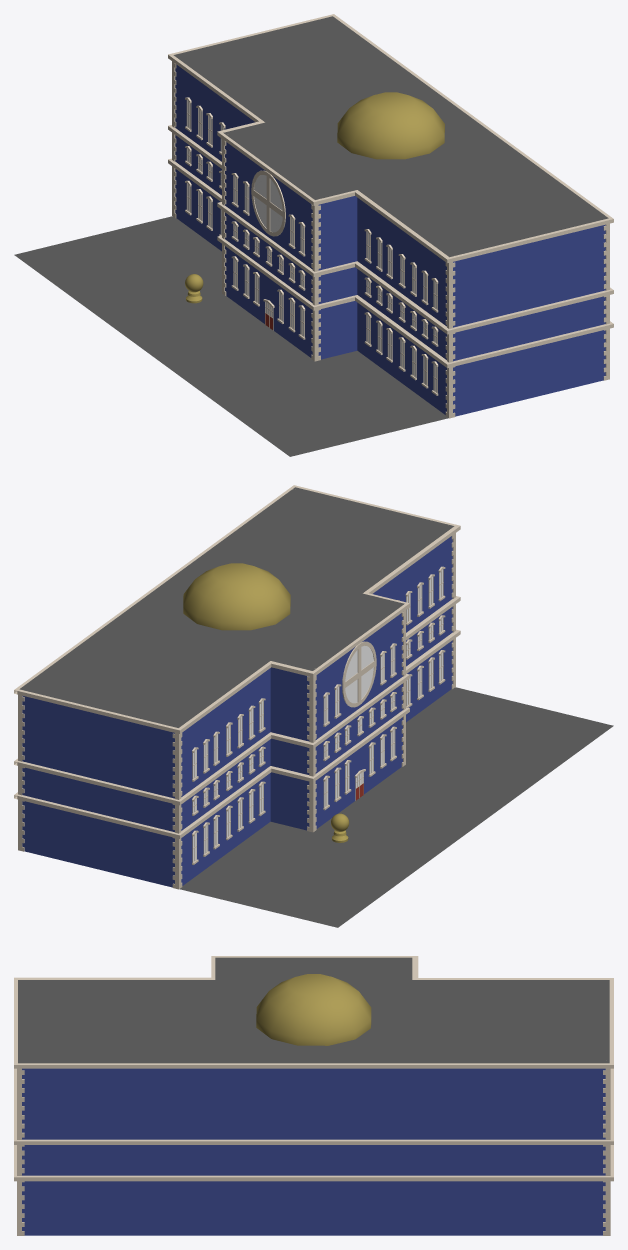
File: 3x2_Museum.col.glb
The picture shows the model from 3 angles, top to bottom: view 1: azimuth 30°, elevation 25°; view 2: azimuth 150°, elevation 25°; view 3: azimuth 270°, elevation 25°; orthographic projection. The views are drawn at different scales.
Parts seen in each view (by area): view 1: 3x2_Museum.col; view 2: 3x2_Museum.col; view 3: 3x2_Museum.col.
Boxes of the visible parts, bbox=[...] form: 3x2_Museum.col: bbox=[14, 14, 613, 456]; 3x2_Museum.col: bbox=[14, 485, 613, 927]; 3x2_Museum.col: bbox=[14, 956, 613, 1235].
Size of the model in its own units: 40.4 by 23.4 by 60.85.
